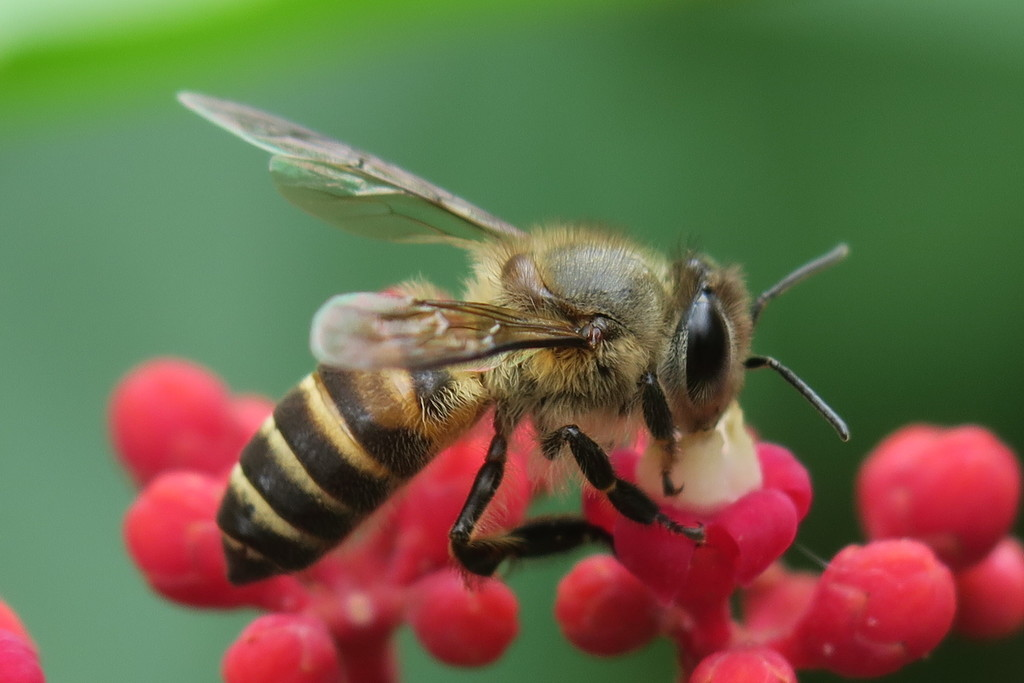not_bumblebee: (166, 83, 853, 592)
